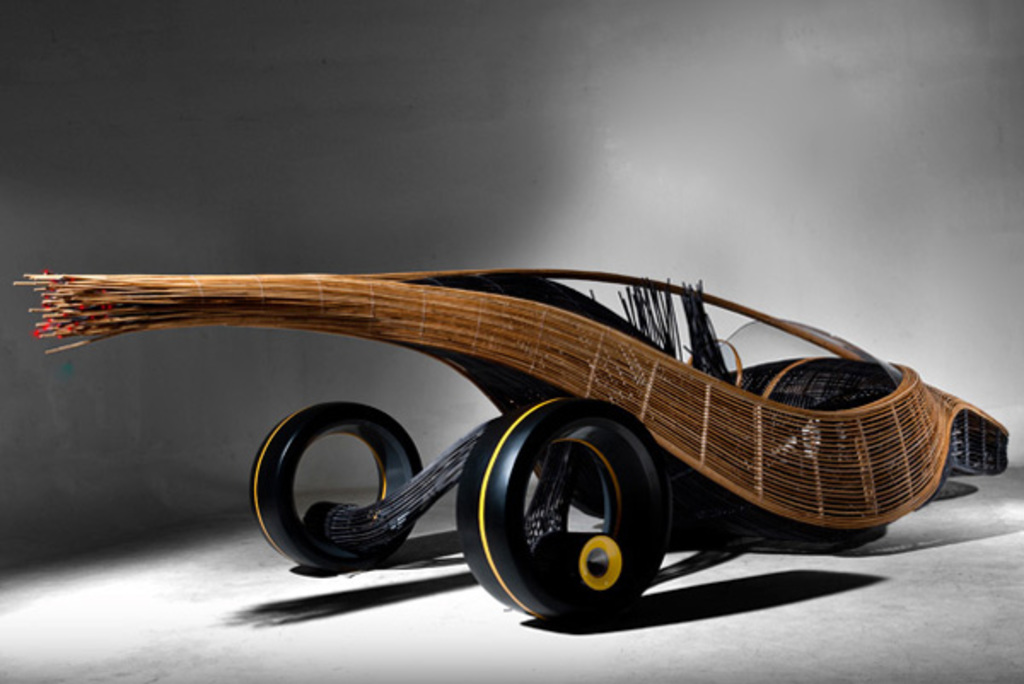Car: (252, 264, 1017, 627)
